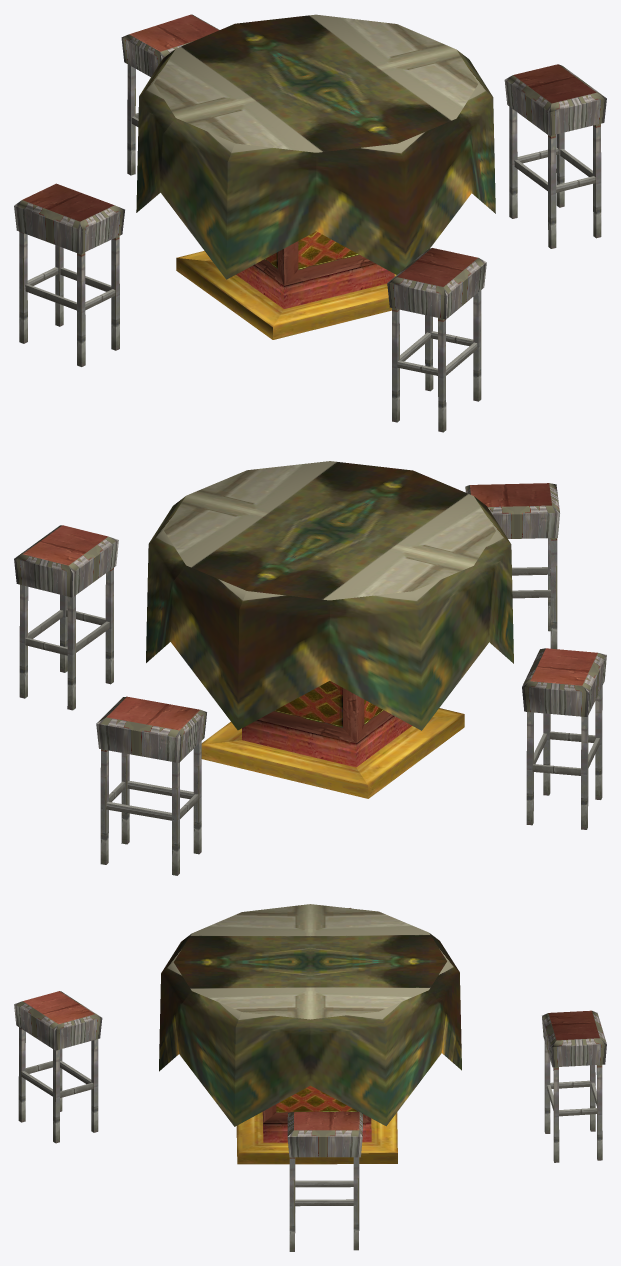
File: hunqing.fbx
The picture shows the model from 3 angles, top to bottom: view 1: azimuth 30°, elevation 25°; view 2: azimuth 150°, elevation 25°; view 3: azimuth 270°, elevation 25°; orthographic projection. The views are drawn at different scales.
Parts seen in each view (by area): view 1: polySurface2586, group98_polySurface2259; view 2: polySurface2586, group98_polySurface2259; view 3: polySurface2586, group98_polySurface2259.
Boxes of the visible parts, x1=… form: polySurface2586: x1=136, y1=14, x2=495, y2=279; group98_polySurface2259: x1=14, y1=14, x2=606, y2=432; polySurface2586: x1=146, y1=461, x2=513, y2=730; group98_polySurface2259: x1=14, y1=483, x2=606, y2=875; polySurface2586: x1=159, y1=904, x2=461, y2=1126; group98_polySurface2259: x1=14, y1=908, x2=606, y2=1251.
Bounding box in the file's own units: 4.46 × 1.62 × 4.89.
